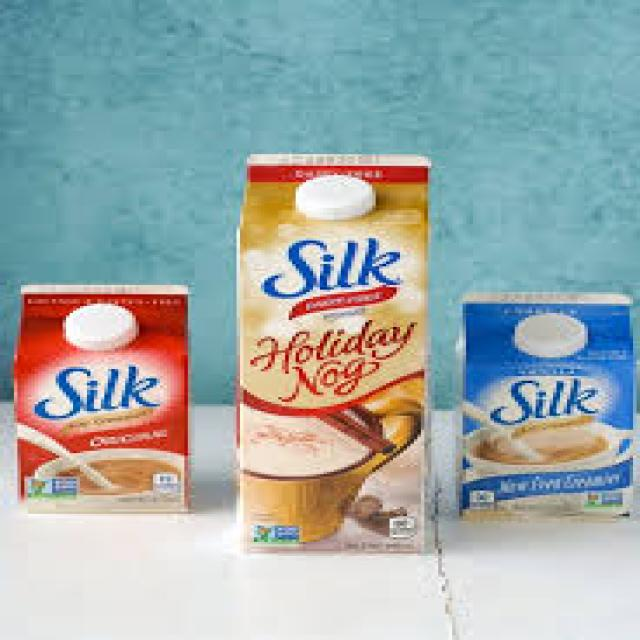cardboard: (228, 149, 438, 553), (454, 296, 640, 521), (17, 282, 194, 514)
